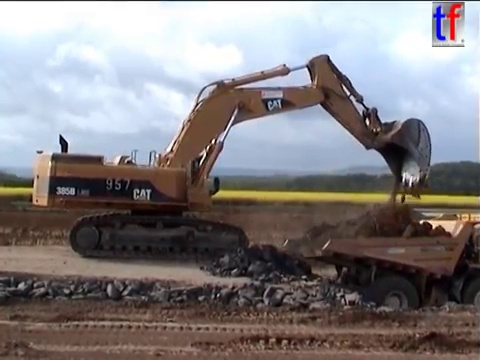excavator: (27, 51, 436, 262)
truck: (279, 210, 480, 334)
